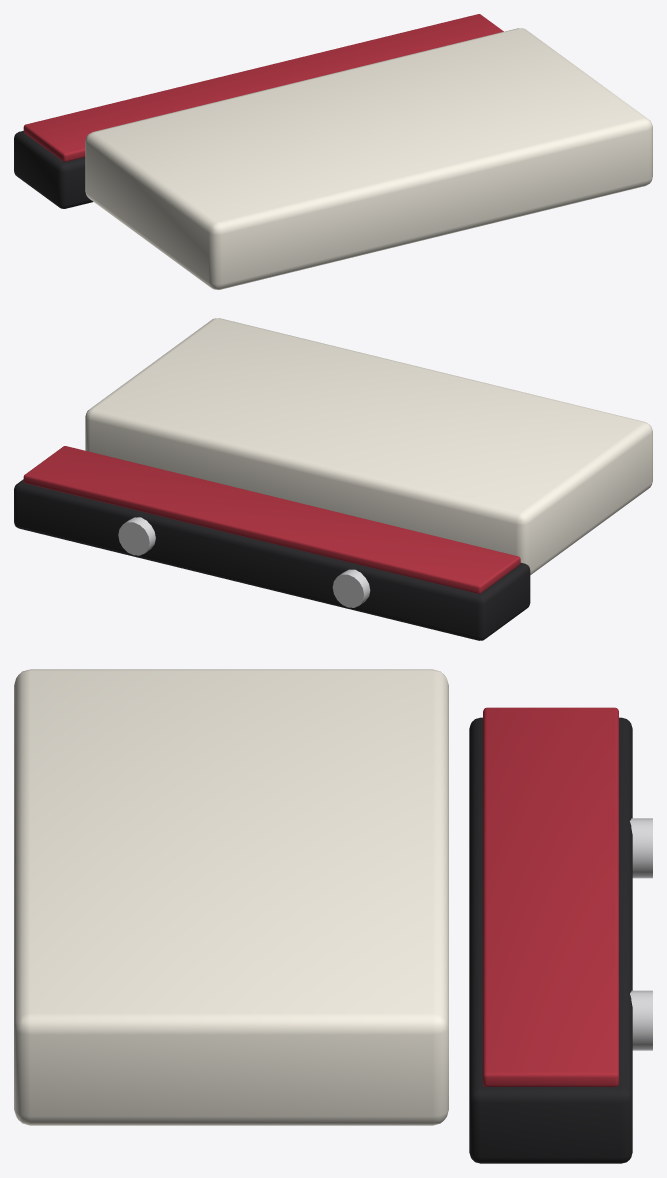
File: model_white.glb
The picture shows the model from 3 angles, top to bottom: view 1: azimuth 30°, elevation 25°; view 2: azimuth 150°, elevation 25°; view 3: azimuth 270°, elevation 25°; orthographic projection. The views are drawn at different scales.
Visible parts, largest first — view 1: piano_white; view 2: piano_white; view 3: piano_white.
Part boxes in pixels (x1,y1,x2,y2): piano_white: (14, 14, 652, 289); piano_white: (14, 318, 652, 640); piano_white: (14, 669, 652, 1163).
Size of the model in its own units: 0.66 by 0.11 by 0.47.
